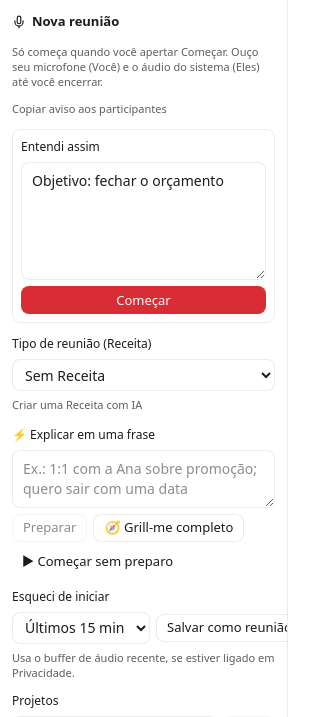
Test case: meeting panel › notes and ★ markers go on the timeline during a meeting
This screenshot has width=320, height=717.
Click the button "▶ Começar sem preparo". click: click(98, 562)
box: left=12, top=548, right=183, bottom=576
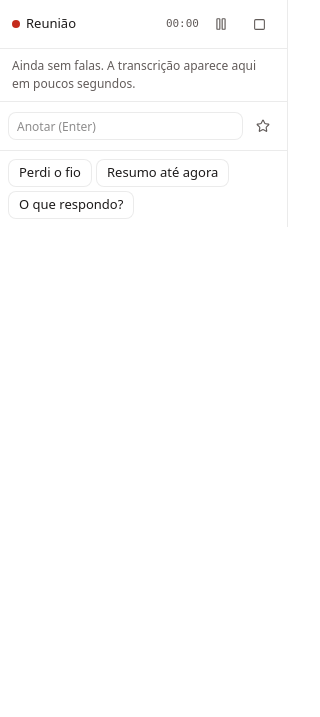
Type "perguntar sobre o prazo" into the field labelled "Anotar (Enter)". click: (126, 126)
box: left=8, top=112, right=243, bottom=140
Then press Enter
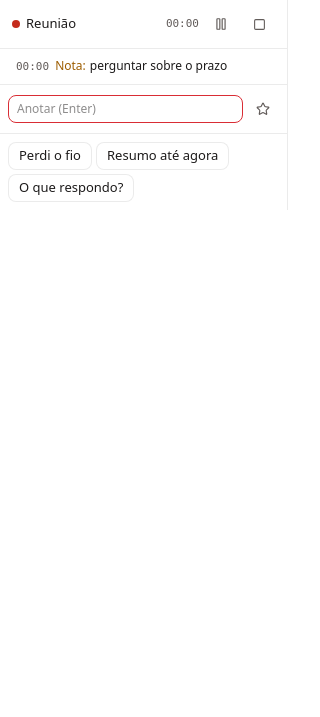
expect the field labelled "Anotar (Enter)" is empty: met, box left=8, top=94, right=243, bottom=122
expect the list item "perguntar sobre o prazo" is shown: met, box left=90, top=57, right=227, bottom=74
Click the button named "Marcar momento". click: click(263, 108)
box: left=247, top=92, right=279, bottom=124
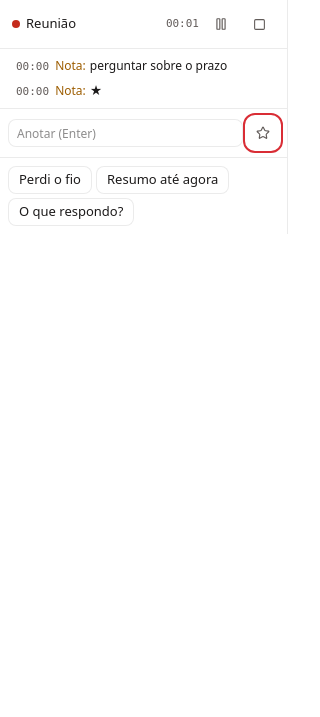
expect the list item "★" is shown: met, box left=90, top=82, right=102, bottom=98
expect the text "Nota:" is shown 2 times: met, box left=55, top=57, right=86, bottom=74; left=55, top=82, right=86, bottom=98
